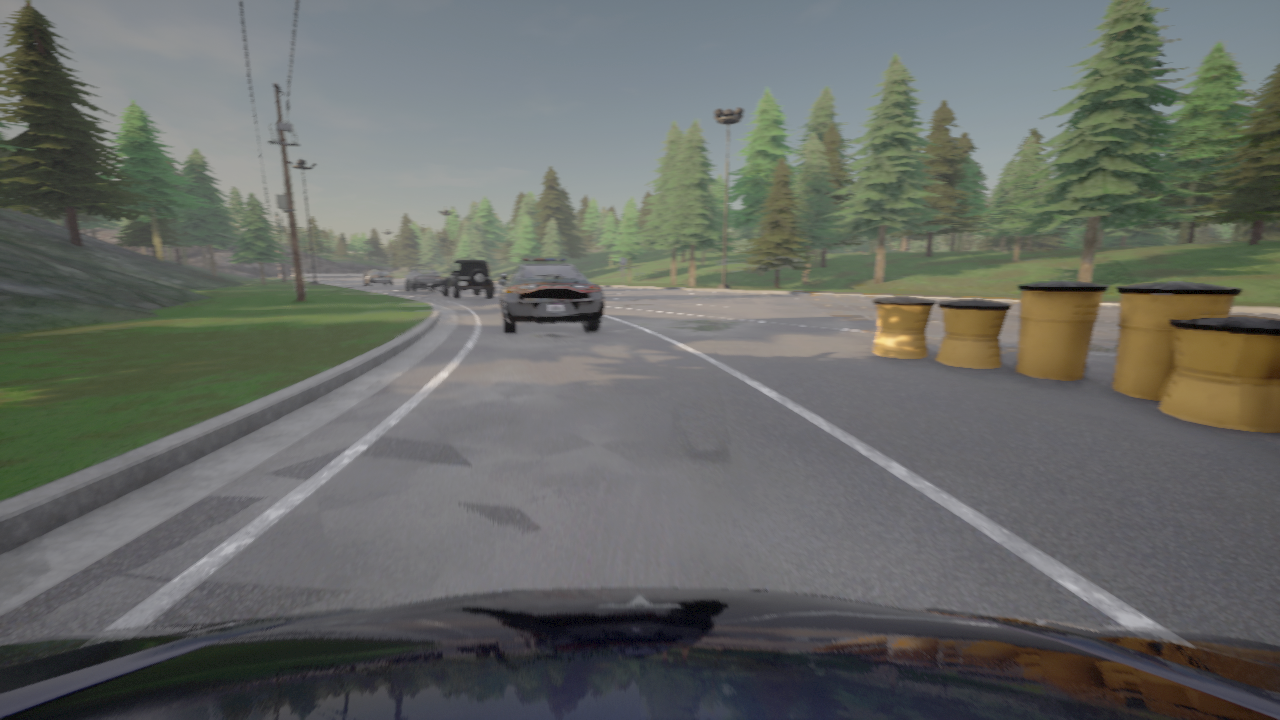cyclist: (0, 588, 1279, 719), (498, 258, 603, 334), (441, 259, 494, 299), (404, 269, 441, 292), (364, 270, 393, 286)
